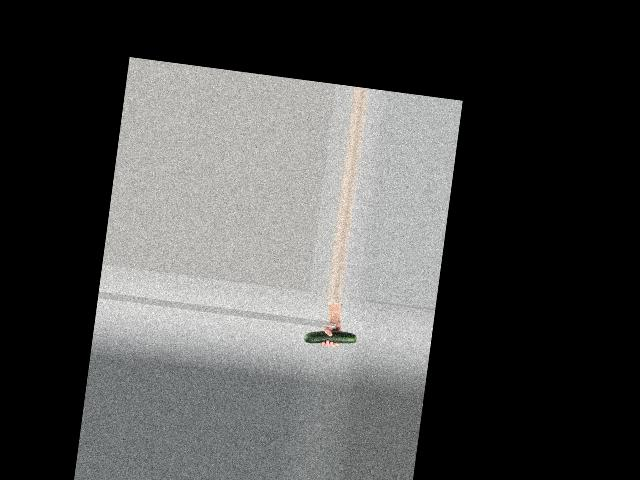cucumber: (303, 326, 356, 349)
